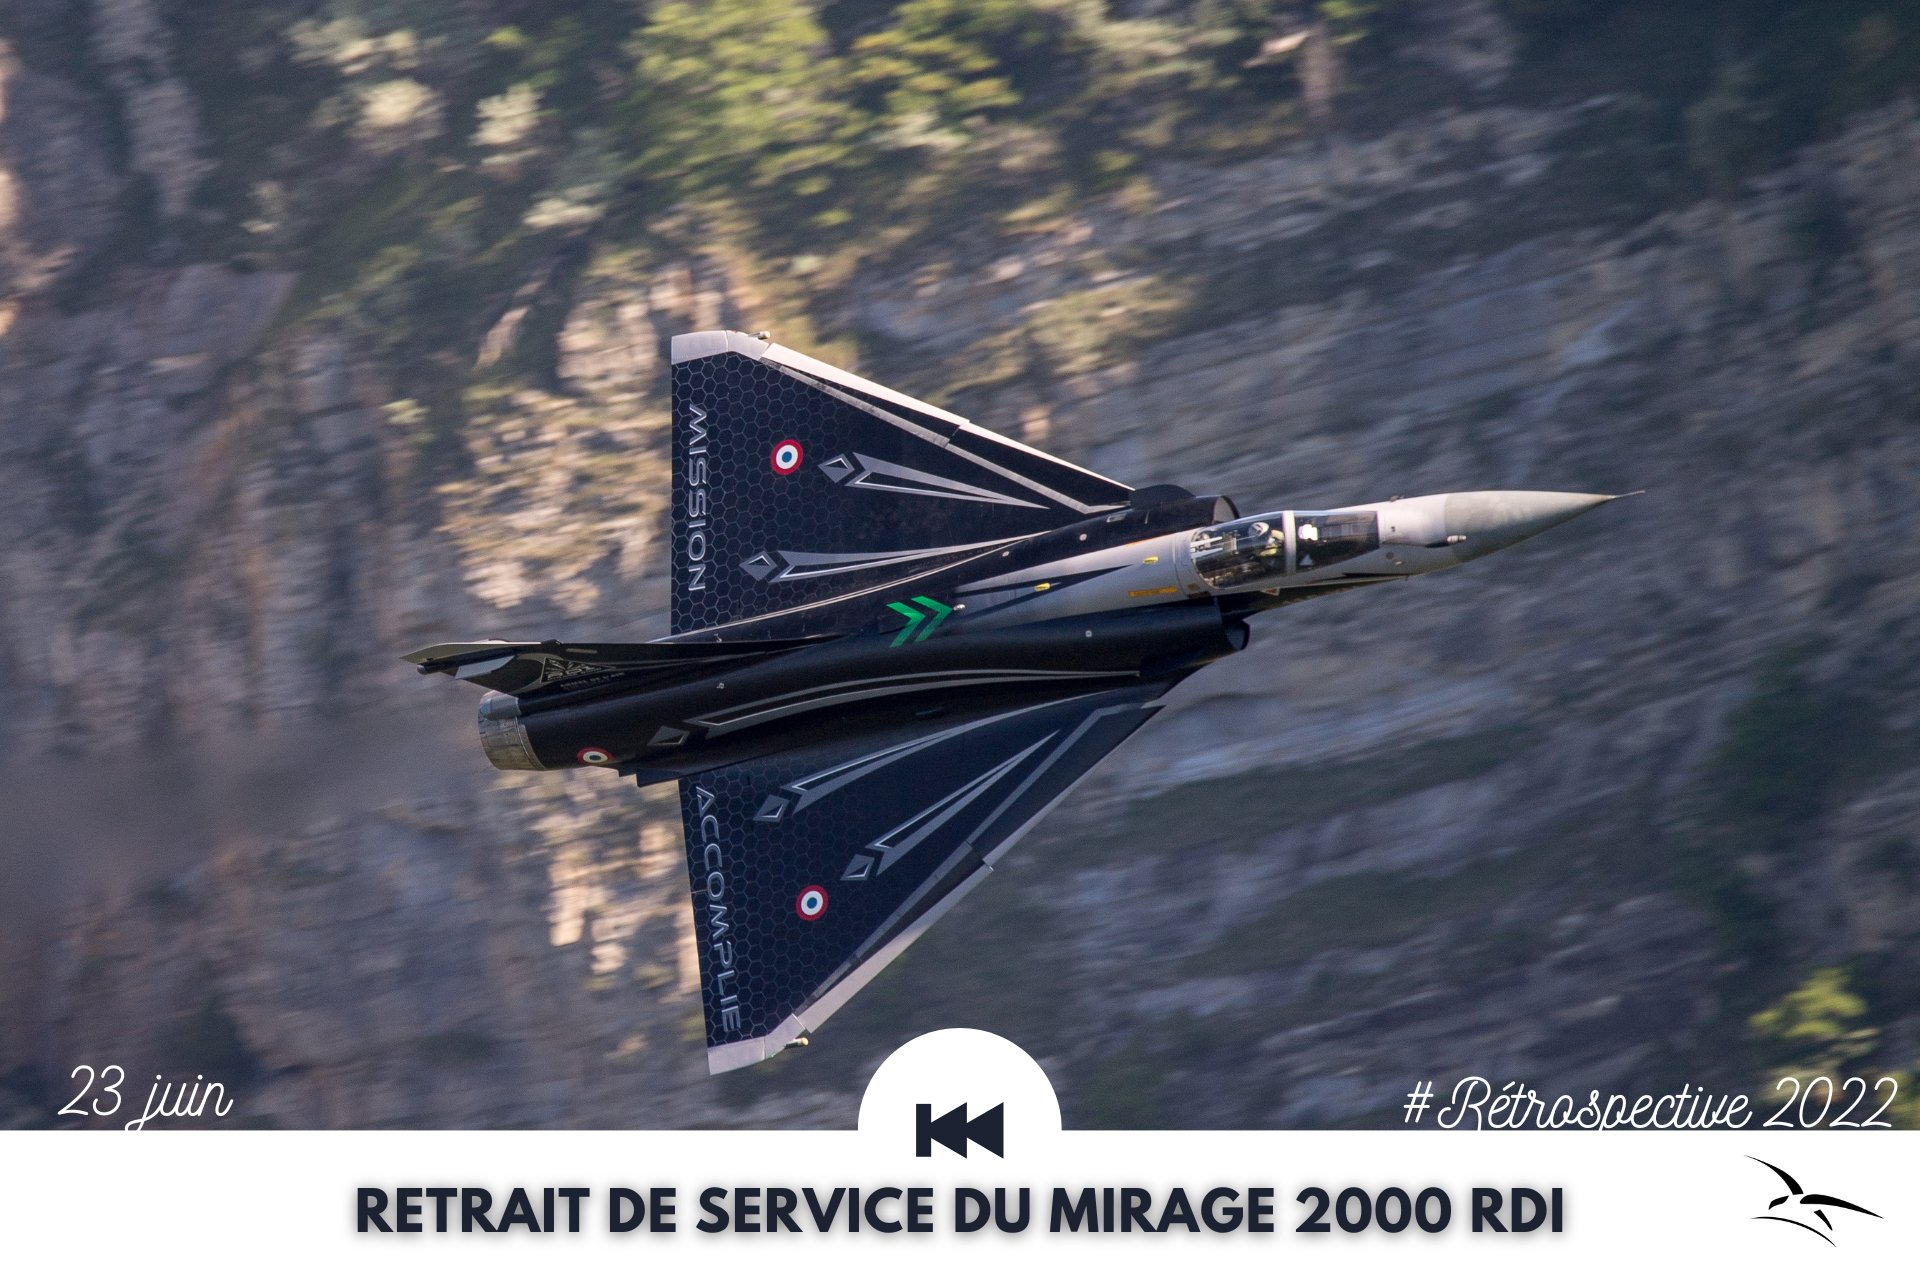Mirage2000: (397, 329, 1646, 1077)
